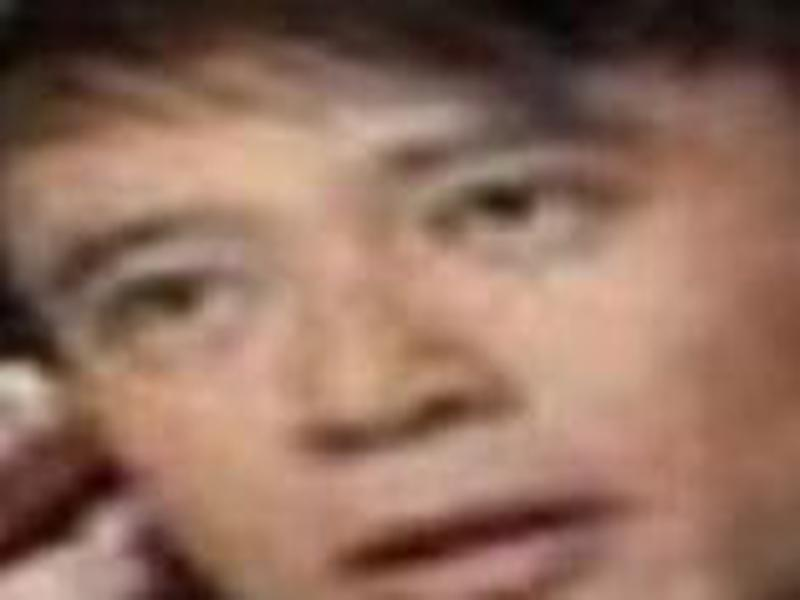without_mask: (12, 55, 800, 600)
